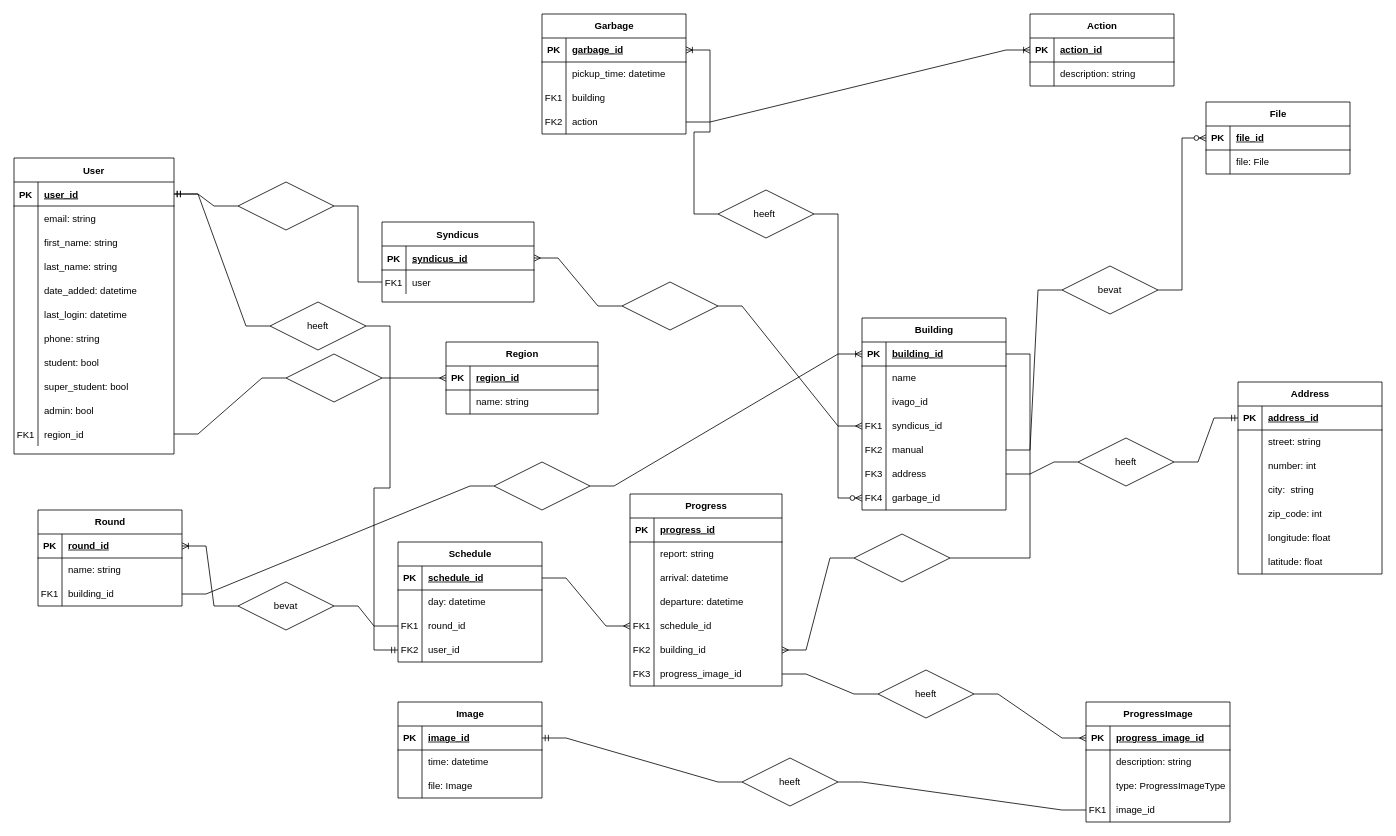
This 1396x836 diagram has some shape labels left out. Here are the shapes that lost their labels. From the top down, the centre of each, then its label:
At (x=285, y=205): "is".
At (x=669, y=305): "eigenaar van".
At (x=333, y=377): "werkt in".
At (x=541, y=485): "bestaat uit".
At (x=901, y=557): "hoort bij".
